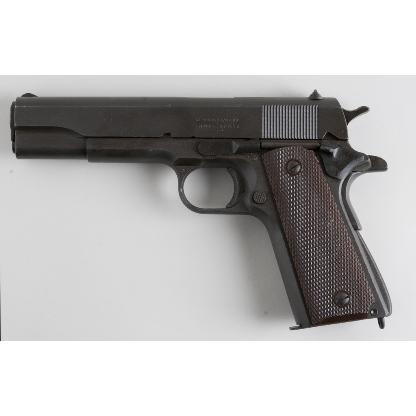gun: (10, 87, 390, 329)
